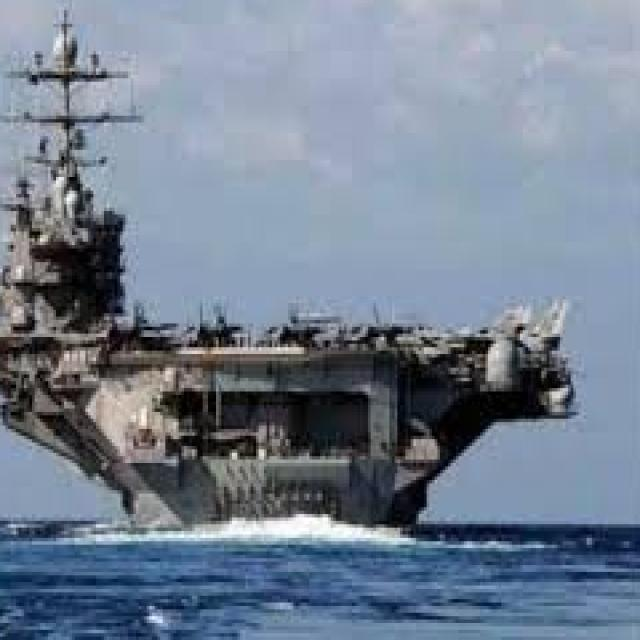navalvessels: (0, 41, 568, 555)
